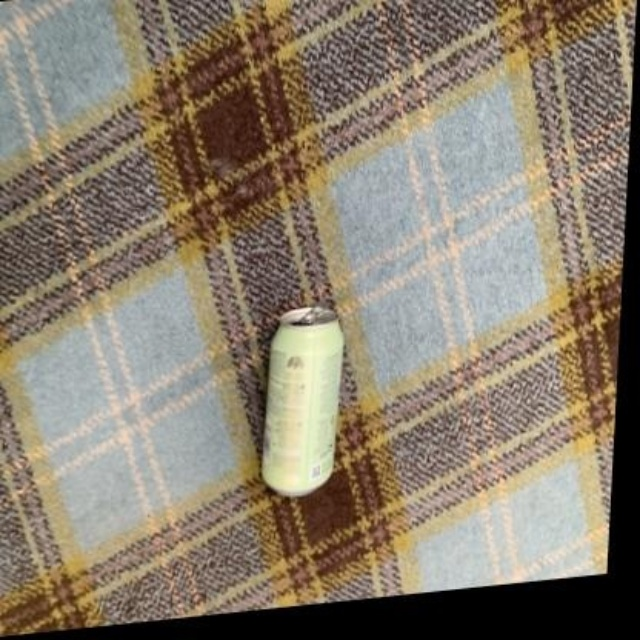trash: (262, 308, 342, 495)
